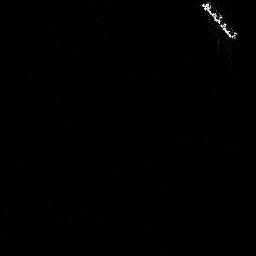ship: (198, 2, 239, 39)
